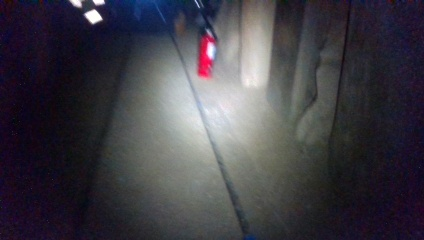fire_extinguisher: (194, 22, 220, 80)
manikin: (70, 1, 188, 39)
